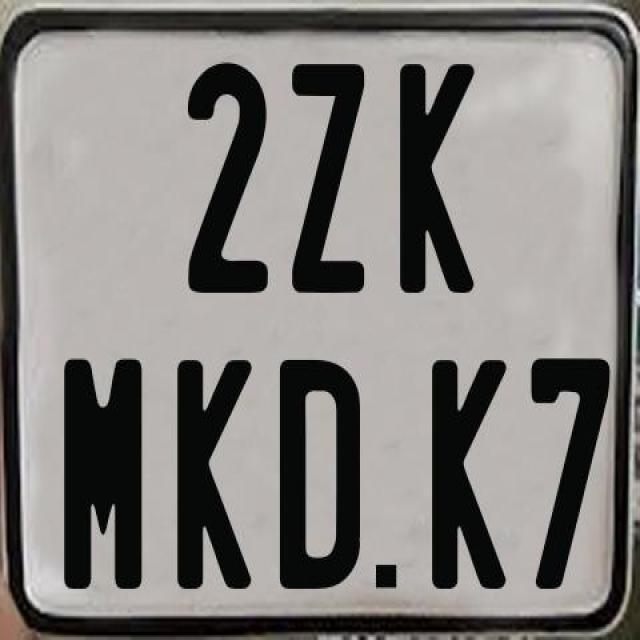2: (184, 59, 272, 290)
7: (530, 354, 614, 586)
D: (280, 360, 363, 597)
K: (400, 63, 480, 294), (174, 357, 254, 586), (431, 357, 506, 589)
M: (61, 357, 147, 597)
Z: (290, 59, 364, 294)
